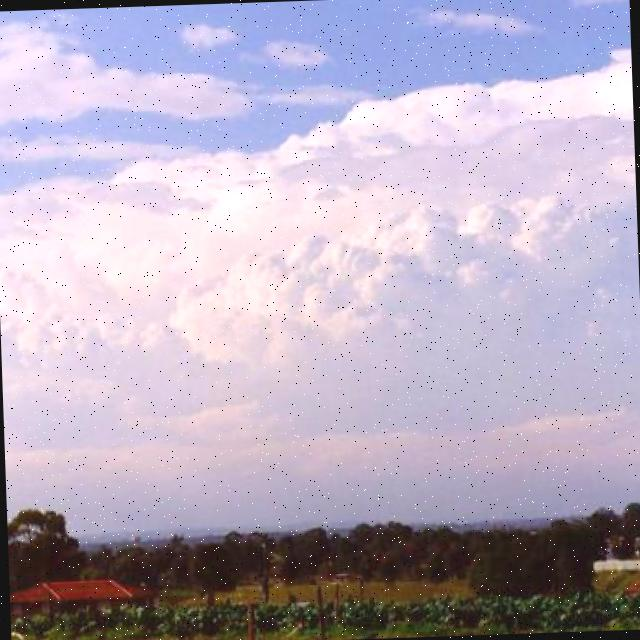St: (1, 37, 640, 464)
